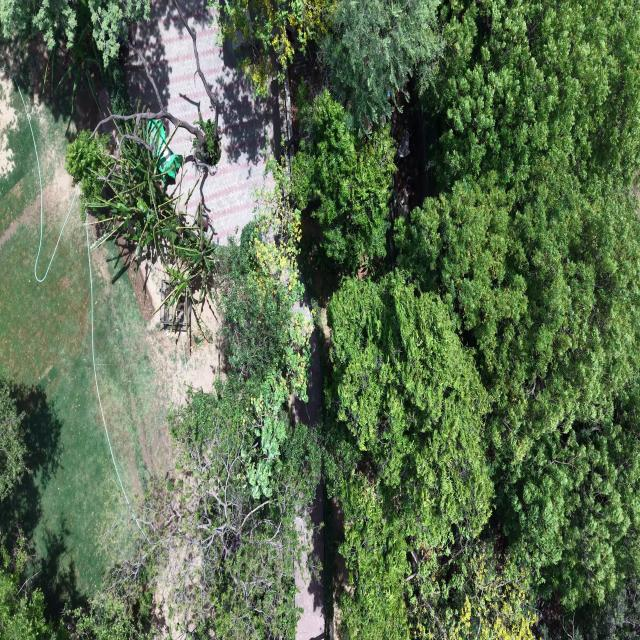DRY_AREA: (0, 74, 136, 613), (0, 77, 126, 607), (0, 75, 122, 606), (182, 0, 283, 242), (181, 0, 272, 242)
PATHWAYS: (181, 0, 287, 242)
VEGETATION_TREE: (64, 0, 639, 639), (391, 3, 639, 633), (48, 65, 320, 639), (397, 3, 639, 610), (67, 112, 319, 637), (41, 182, 321, 639), (399, 184, 639, 606), (114, 182, 321, 639), (326, 272, 493, 638), (66, 2, 221, 307), (327, 271, 493, 547), (423, 0, 639, 201), (156, 376, 321, 639), (218, 167, 312, 498), (66, 123, 217, 304), (291, 89, 395, 273), (0, 522, 151, 639), (0, 0, 150, 113), (0, 531, 152, 639), (322, 0, 443, 131), (410, 538, 535, 639), (208, 0, 333, 96), (221, 225, 289, 381), (0, 0, 150, 67), (0, 535, 52, 639), (56, 590, 153, 639), (578, 577, 639, 639), (0, 377, 26, 502)
